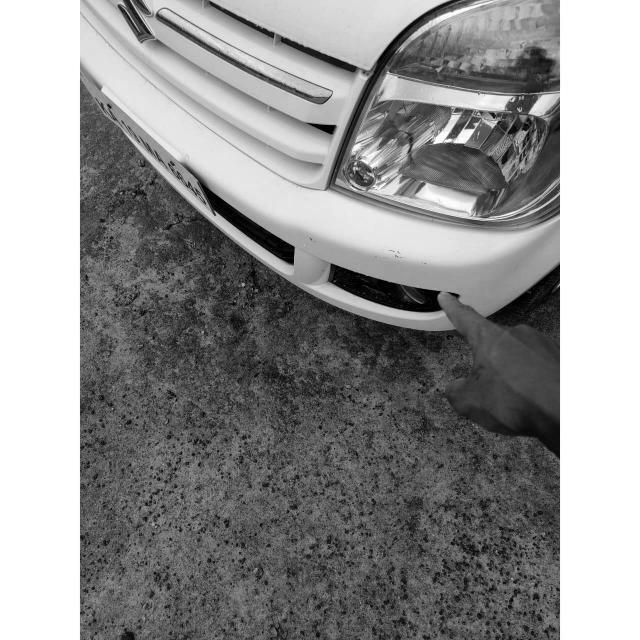front-bumper-dent: (307, 170, 530, 347)
